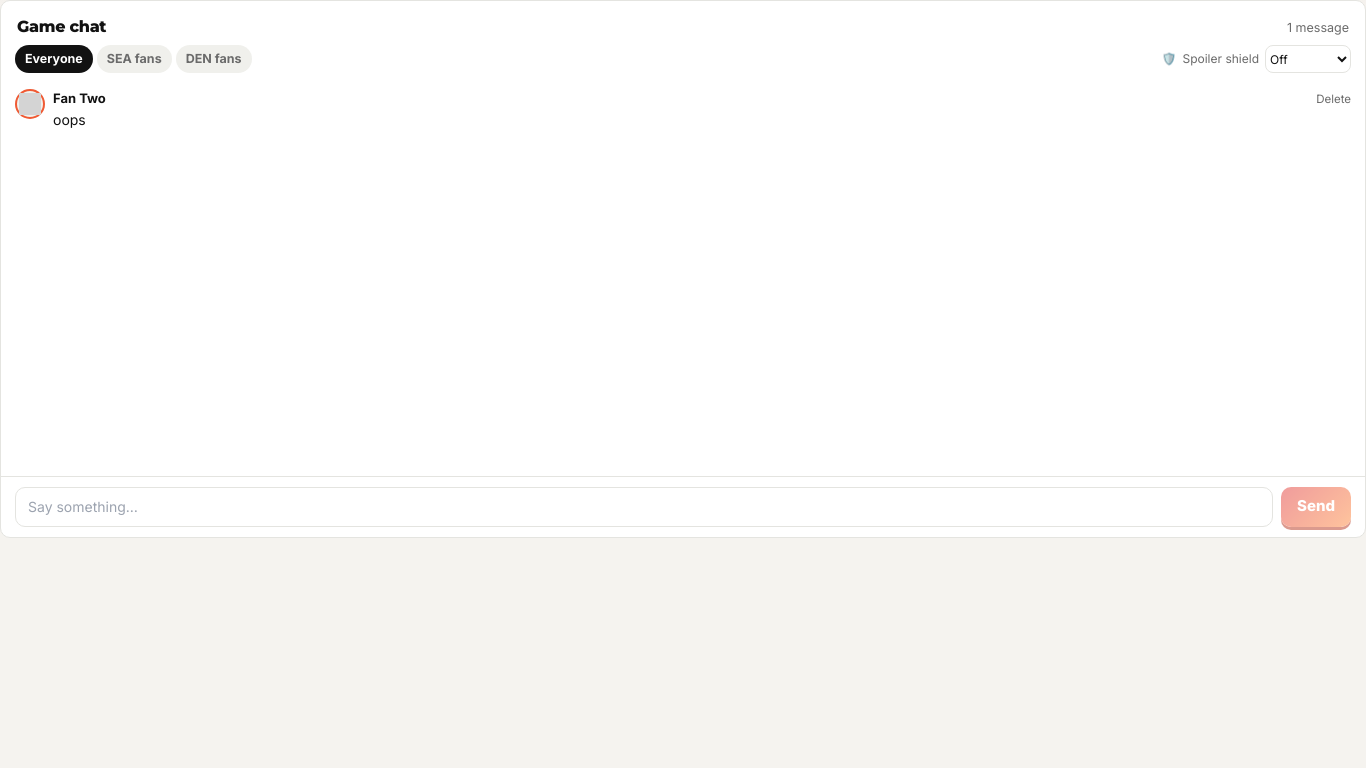
Test: ChatPanel › asks before deleting your own message
Check: the text "oops" is shown, box x1=53 y1=110 x2=86 y2=128
What coordinates should you click on to do the following:
click the button "Delete"
I would click on:
 (1334, 100)
Its box is x1=1316 y1=91 x2=1351 y2=108.
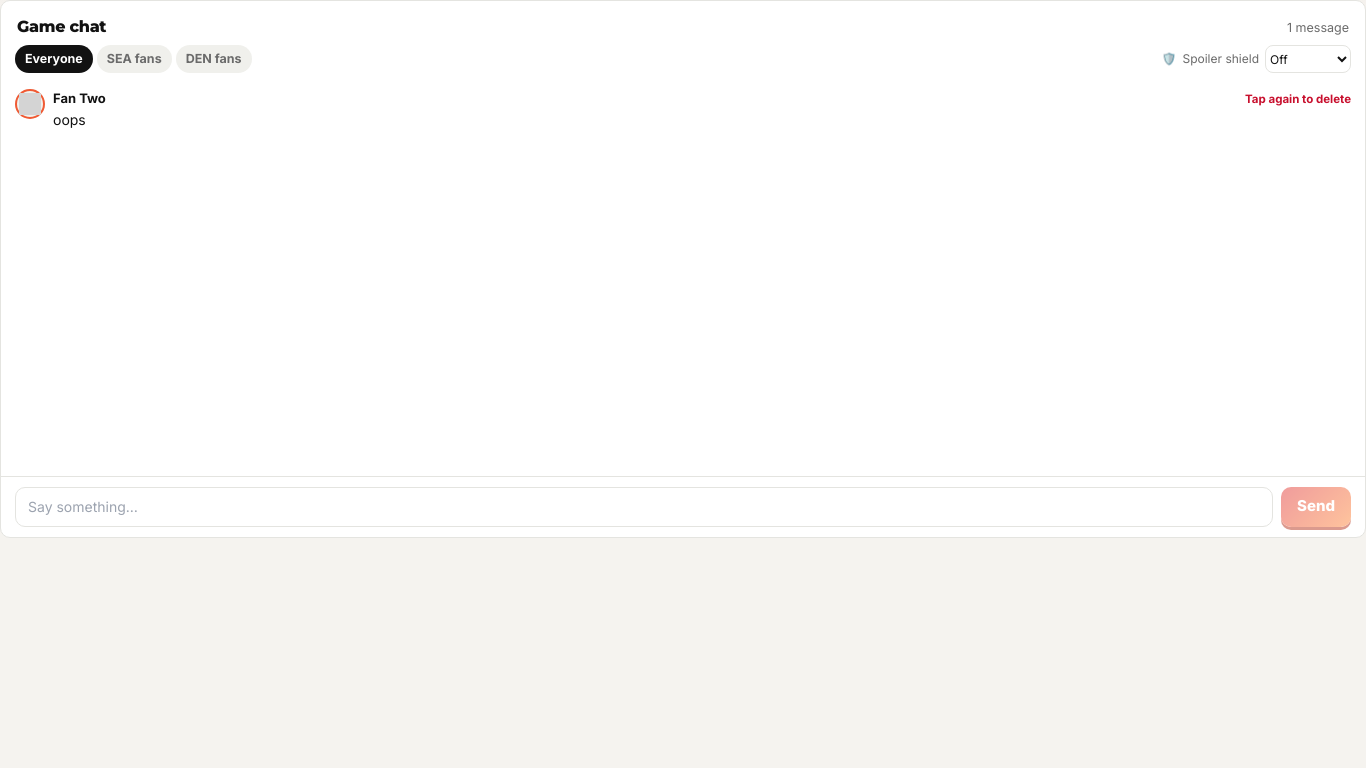
What coordinates should you click on to do the following:
click the button "Tap again to delete"
I would click on:
 (1298, 100)
Its box is x1=1245 y1=91 x2=1351 y2=108.
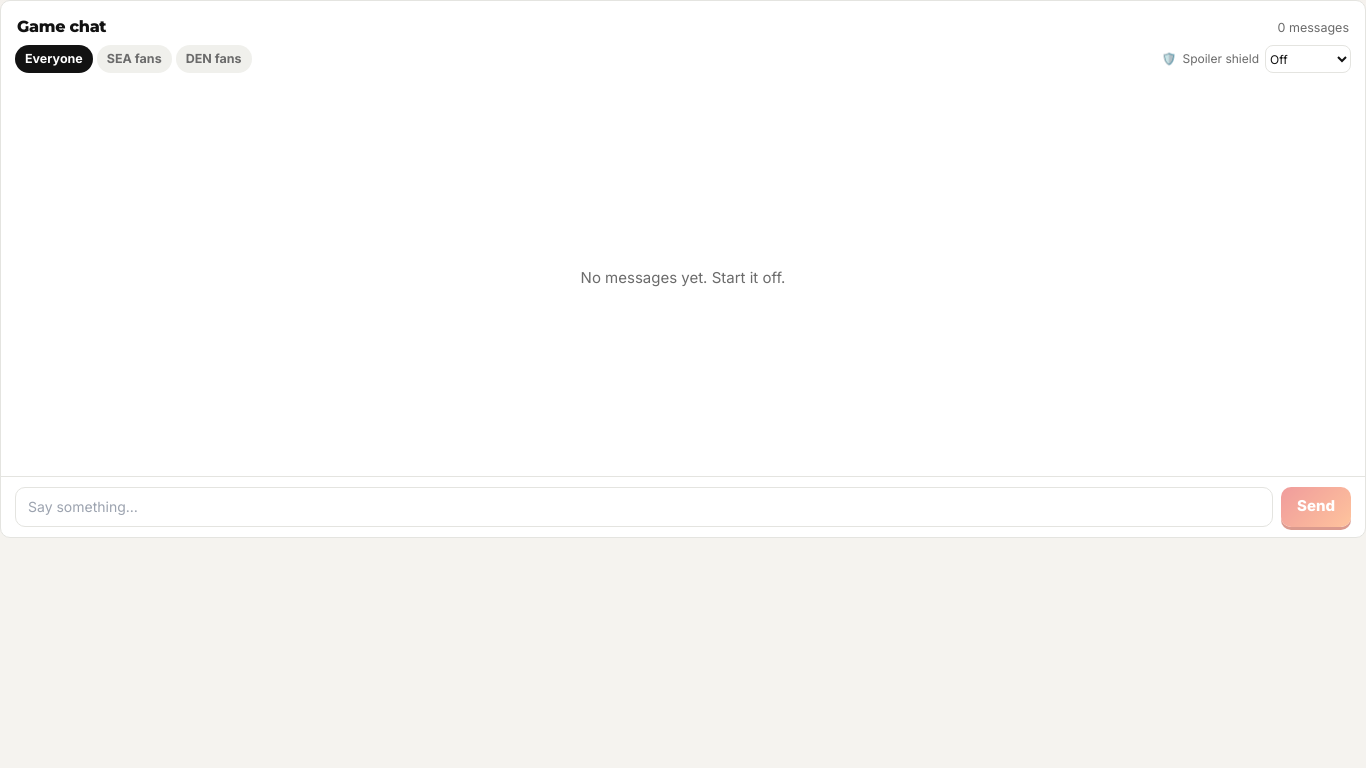
Check: the text "oops" is gone
